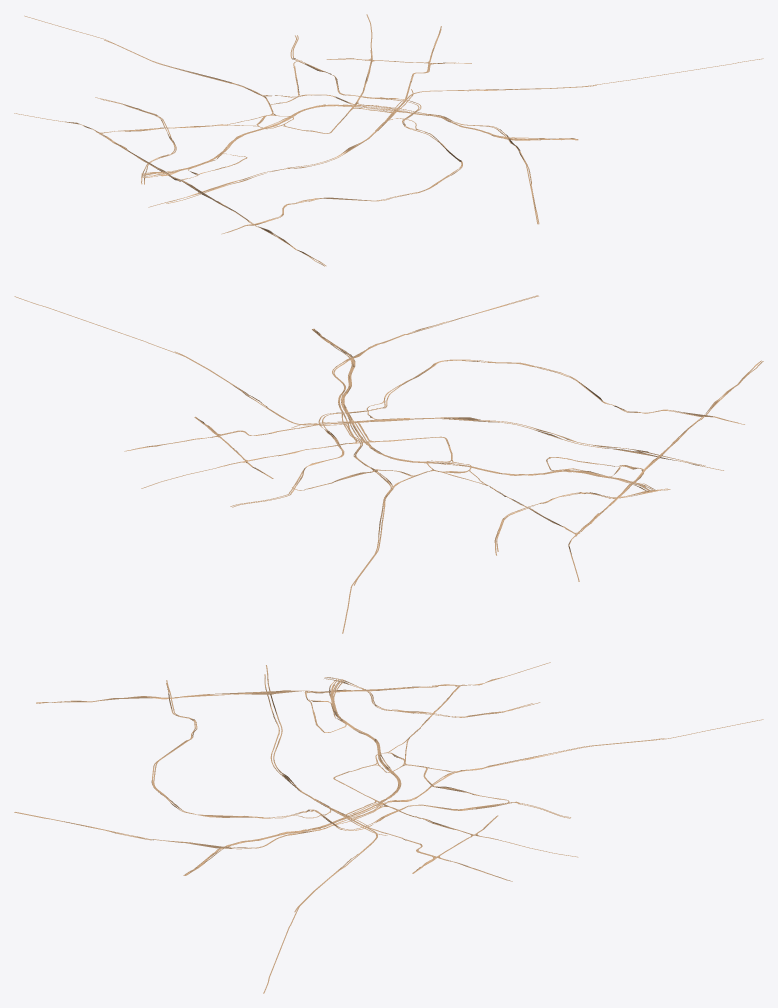
File: rail.glb
3 views of the same model, one above another, from view 1: azimuth 30°, elevation 25°; view 2: azimuth 150°, elevation 25°; view 3: azimuth 270°, elevation 25° (orthographic). The views are drawn at different scales.
Visible parts, largest first — view 1: rail; view 2: rail; view 3: rail.
Part boxes in pixels (x1,y1,x2,y2): rail: [14, 14, 763, 266]; rail: [14, 295, 763, 633]; rail: [14, 662, 763, 993].
Bounding box in the file's own units: 4279 × 28.73 × 4096.
